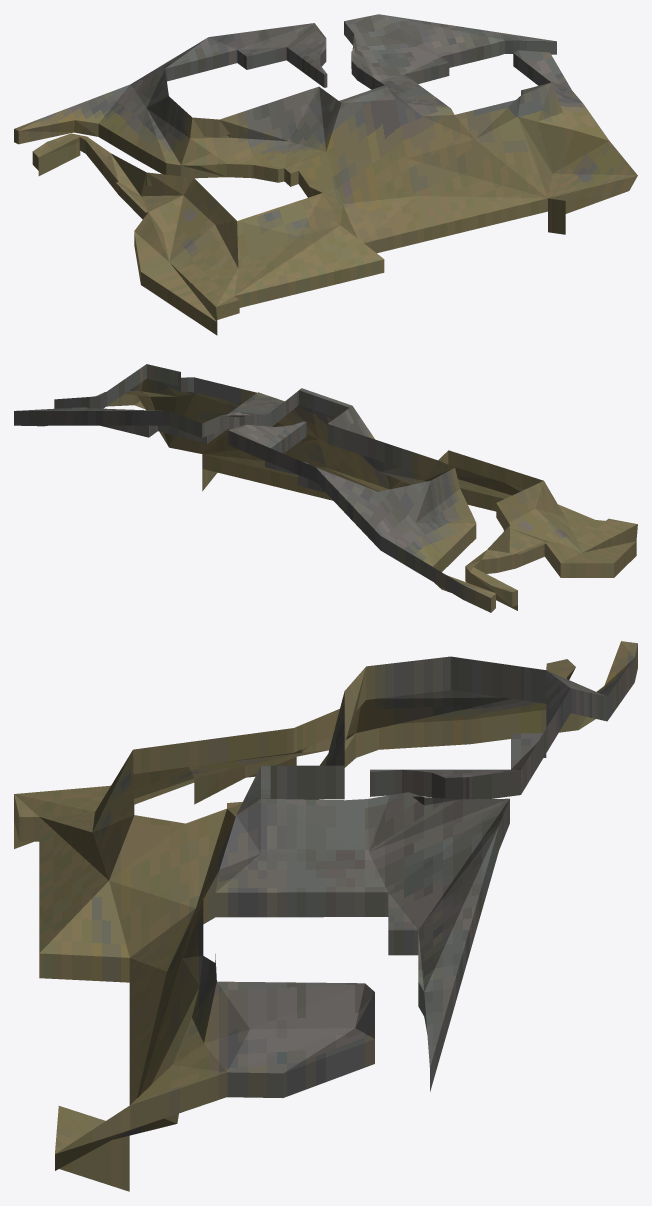
The model's file is lodboxtmp09.obj.
The picture shows the model from 3 angles, top to bottom: view 1: azimuth 30°, elevation 25°; view 2: azimuth 150°, elevation 25°; view 3: azimuth 270°, elevation 25°; orthographic projection. The views are drawn at different scales.
Parts seen in each view (by area): view 1: LODboxtmp09; view 2: LODboxtmp09; view 3: LODboxtmp09.
Boxes of the visible parts, <box> form: LODboxtmp09: <box>14,14,637,335</box>; LODboxtmp09: <box>14,364,637,612</box>; LODboxtmp09: <box>14,641,637,1191</box>.
Bounding box in the file's own units: 121 × 38.82 × 71.98.
Materials: 1 (1 with a texture image).
